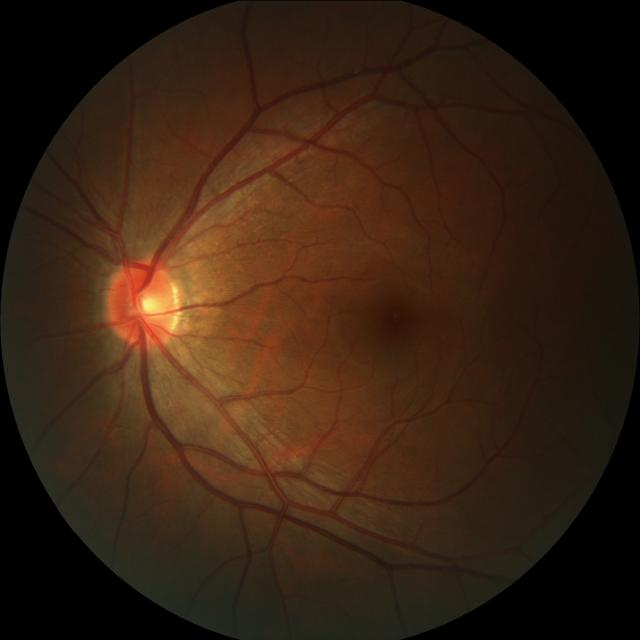OC: (132, 290, 160, 324)
OD: (107, 258, 179, 346)
